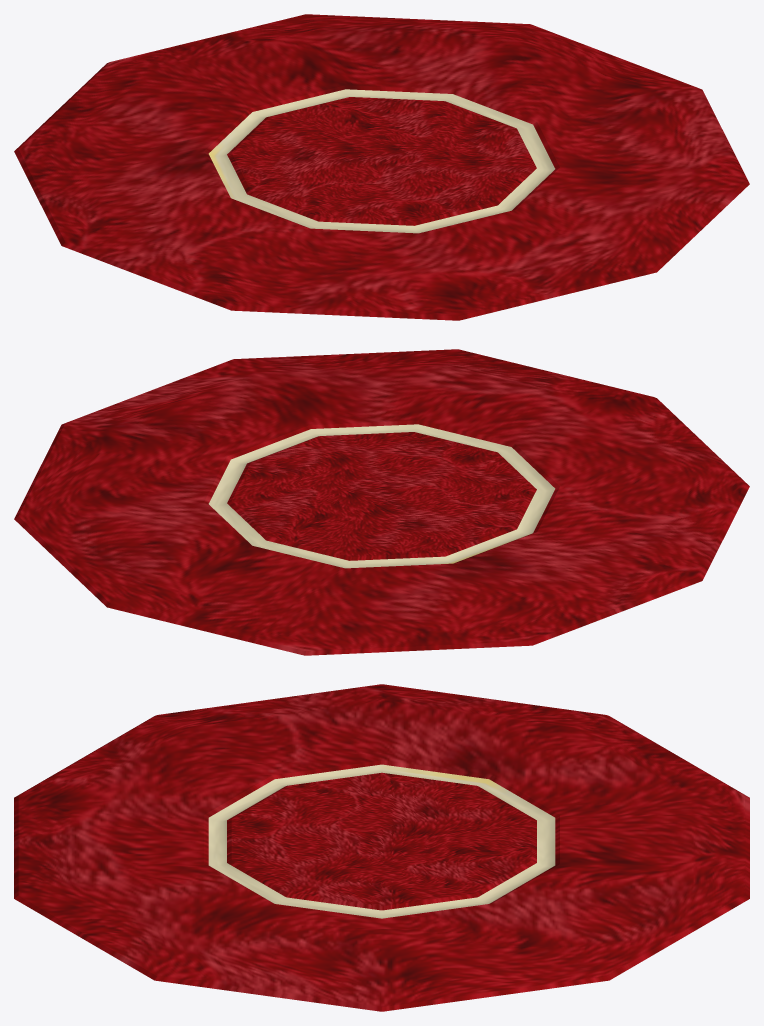
The model's file is Circular_Carpet_05.FBX.
3 renders of one model, top to bottom at view 1: azimuth 30°, elevation 25°; view 2: azimuth 150°, elevation 25°; view 3: azimuth 270°, elevation 25°, orthographic. The views are drawn at different scales.
Visible parts, largest first — view 1: Circular_Carpet; view 2: Circular_Carpet; view 3: Circular_Carpet.
Part boxes in pixels (box(x1,y1,x2,y2)): Circular_Carpet: box(14, 14, 749, 320); Circular_Carpet: box(14, 349, 749, 655); Circular_Carpet: box(14, 684, 749, 1011).
Size of the model in its own units: 316 by 4.05 by 300.
